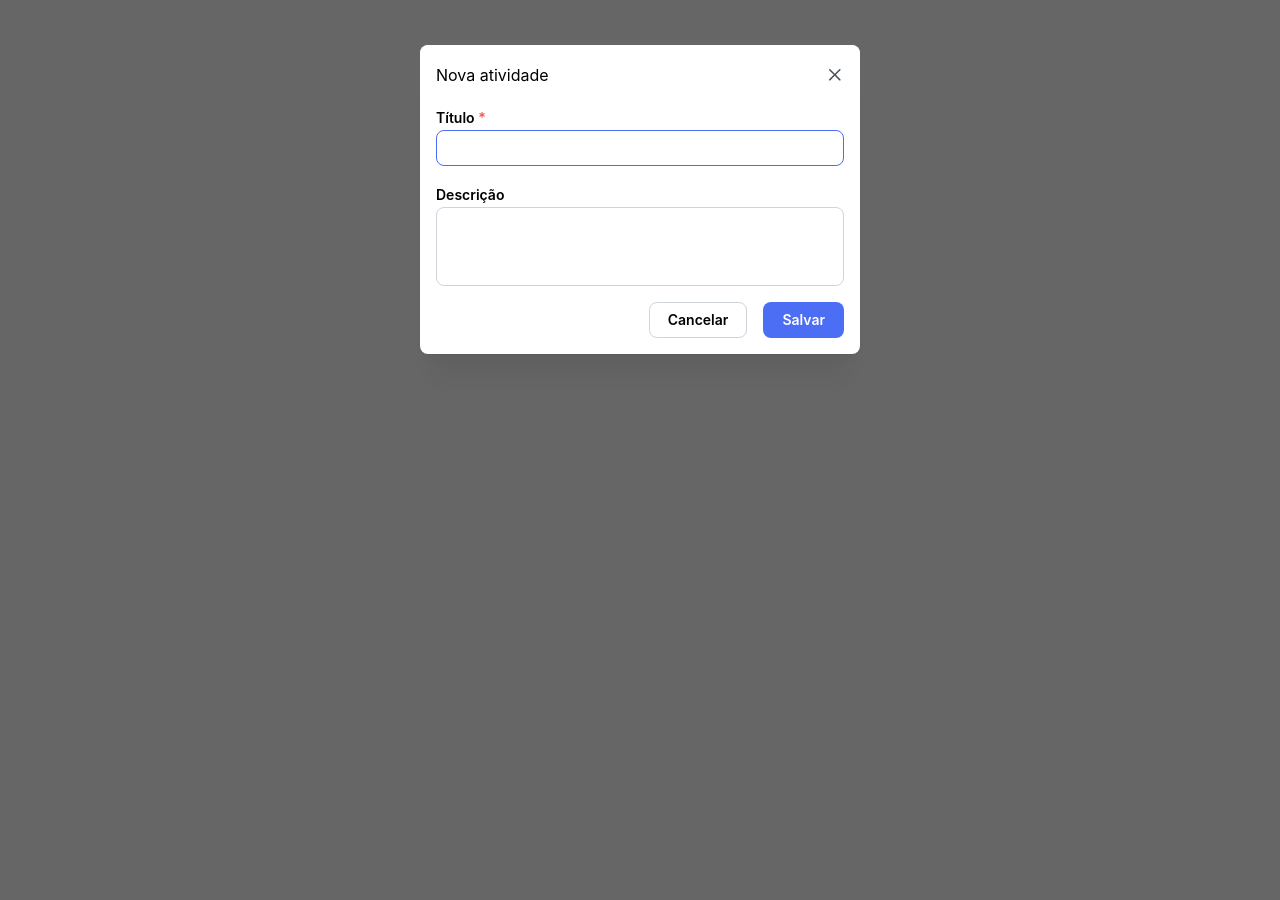
Test: TodoFormModal › cria a atividade com título aparado, notifica o sucesso e fecha
The image size is (1280, 900).
Type "  Comprar pão  " into the field labelled "Título *" at point(640, 148), box [436,130,844,166]
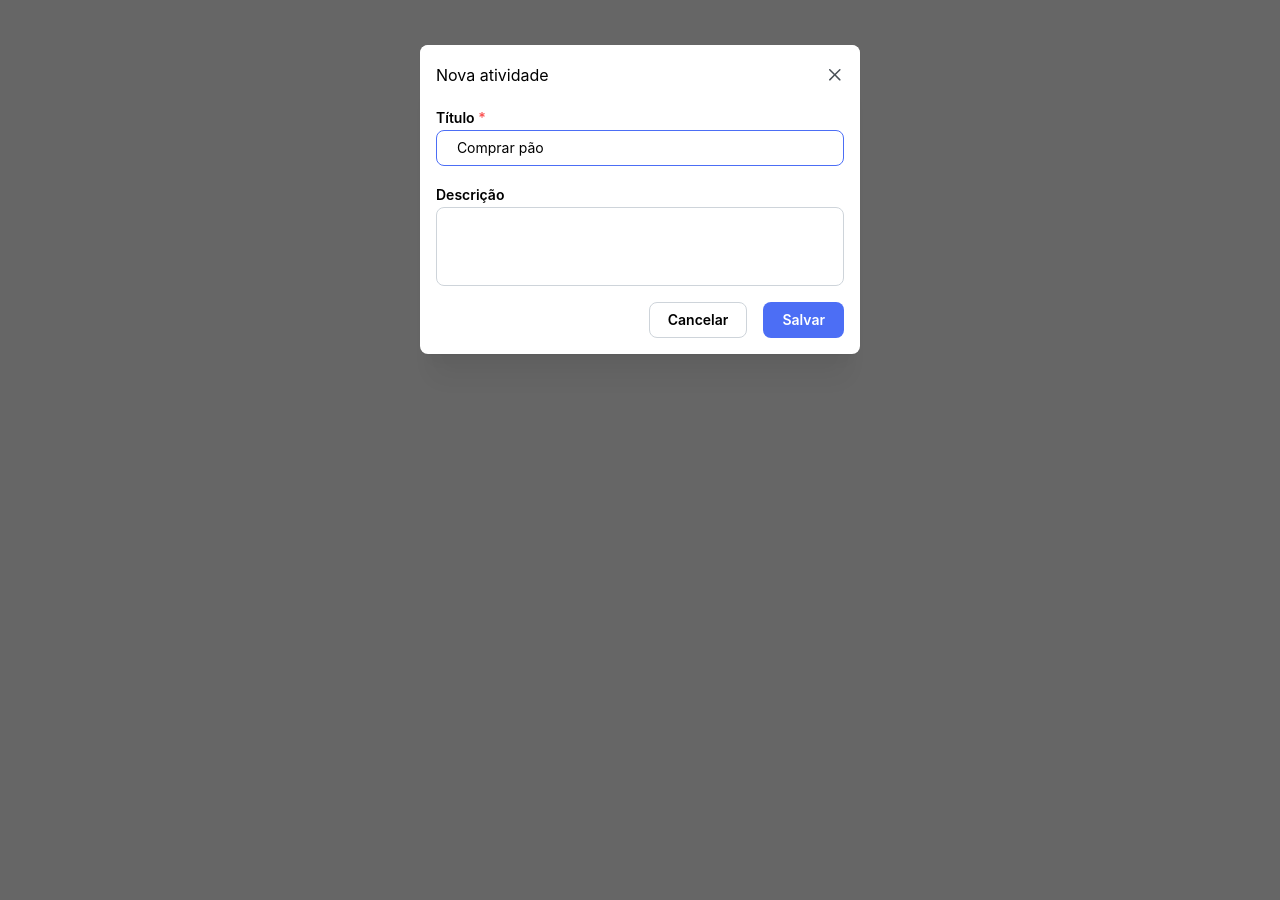
Click the button "Salvar" at point(804, 320), box [763,302,844,338]
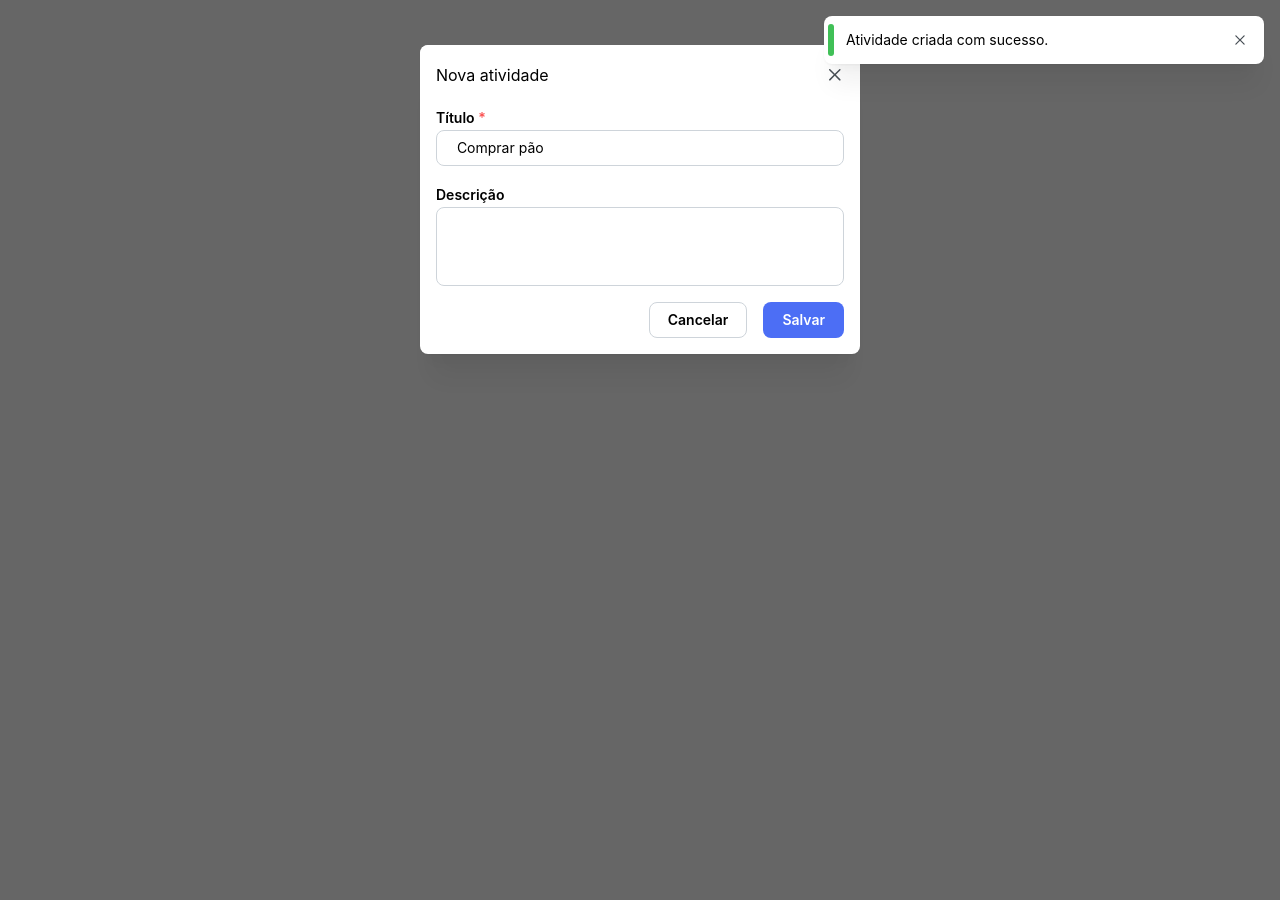
Expected: the text "Atividade criada com sucesso." is shown, [846,31,1048,48]
